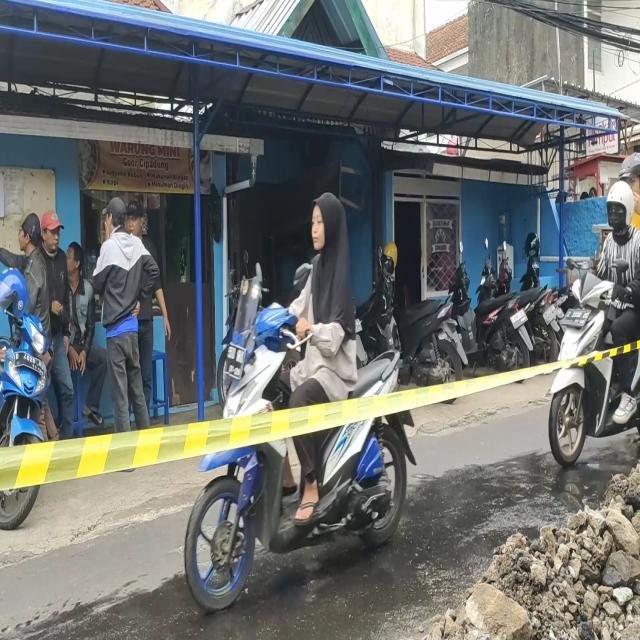helmet: (606, 183, 633, 235), (620, 153, 640, 214)
no-helmet: (311, 196, 346, 253)
